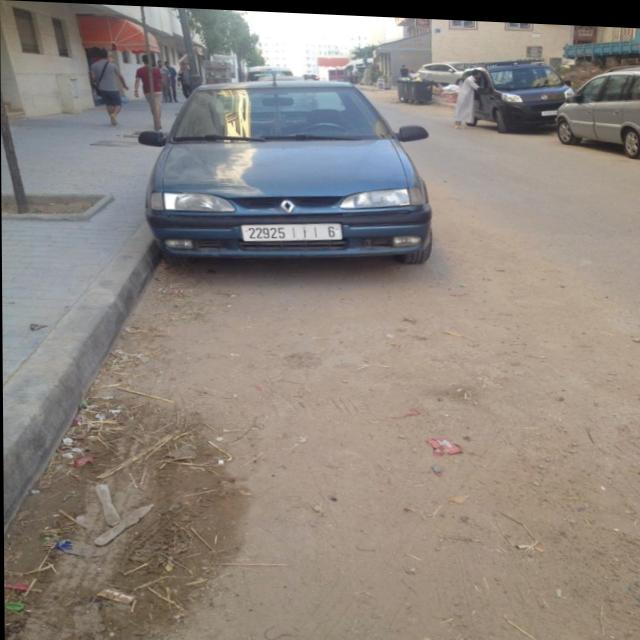License-Plate: (241, 220, 343, 240)
